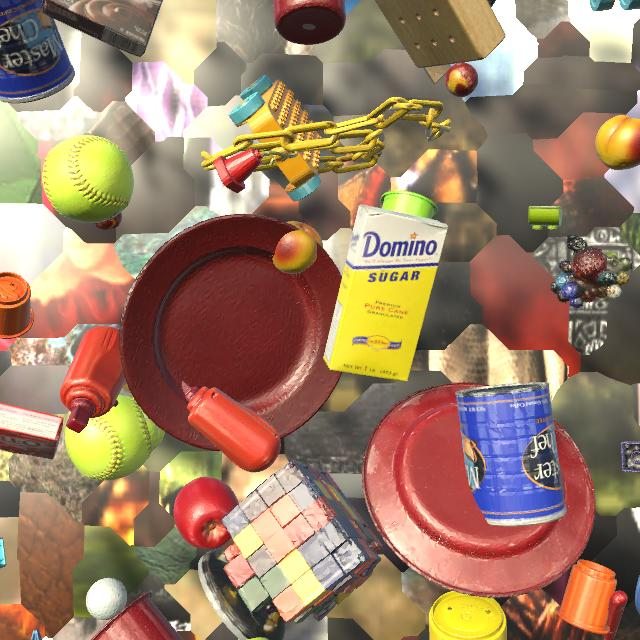ycb_002_master_chef_can: (455, 382, 567, 526), (0, 0, 75, 103)
ycb_004_sugar_box: (323, 204, 448, 381)
ycb_008_pudding_box: (41, 0, 163, 57)
ycb_009_gelatin_box: (0, 403, 64, 460)
ycb_013_apple: (174, 477, 239, 550)
ycb_015_peach: (269, 221, 323, 274), (595, 115, 640, 170)
ycb_018_plum: (176, 232, 180, 235)
